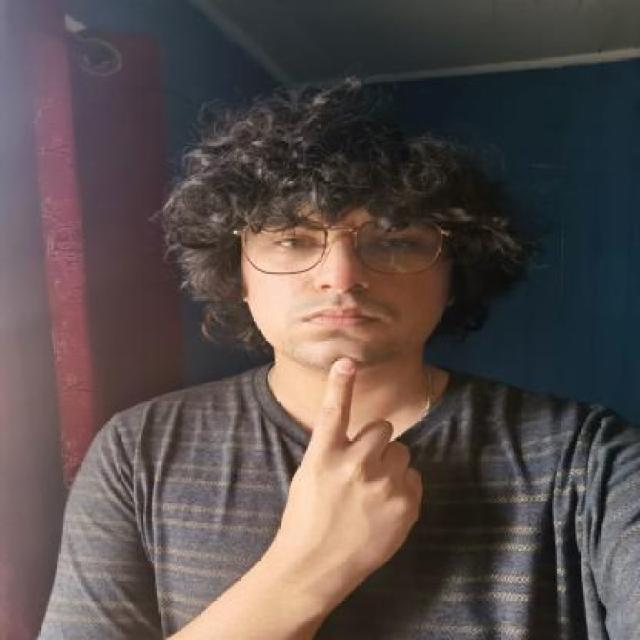T: (286, 352, 426, 566)
